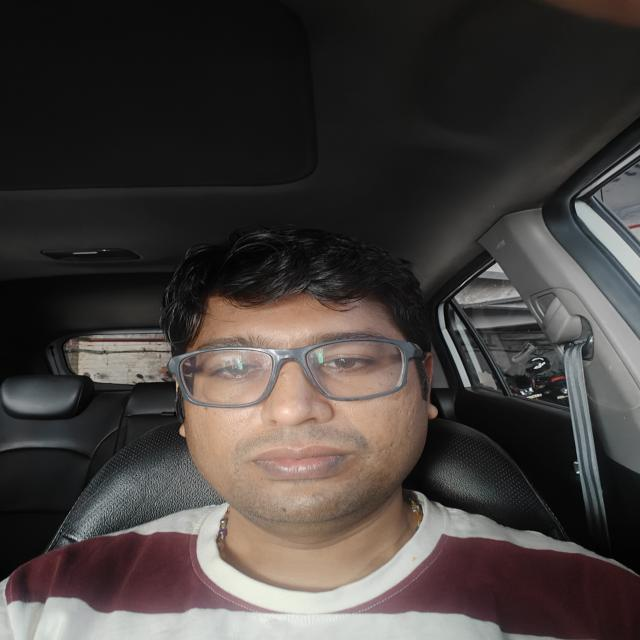no-seatbelt: (124, 320, 617, 640)
